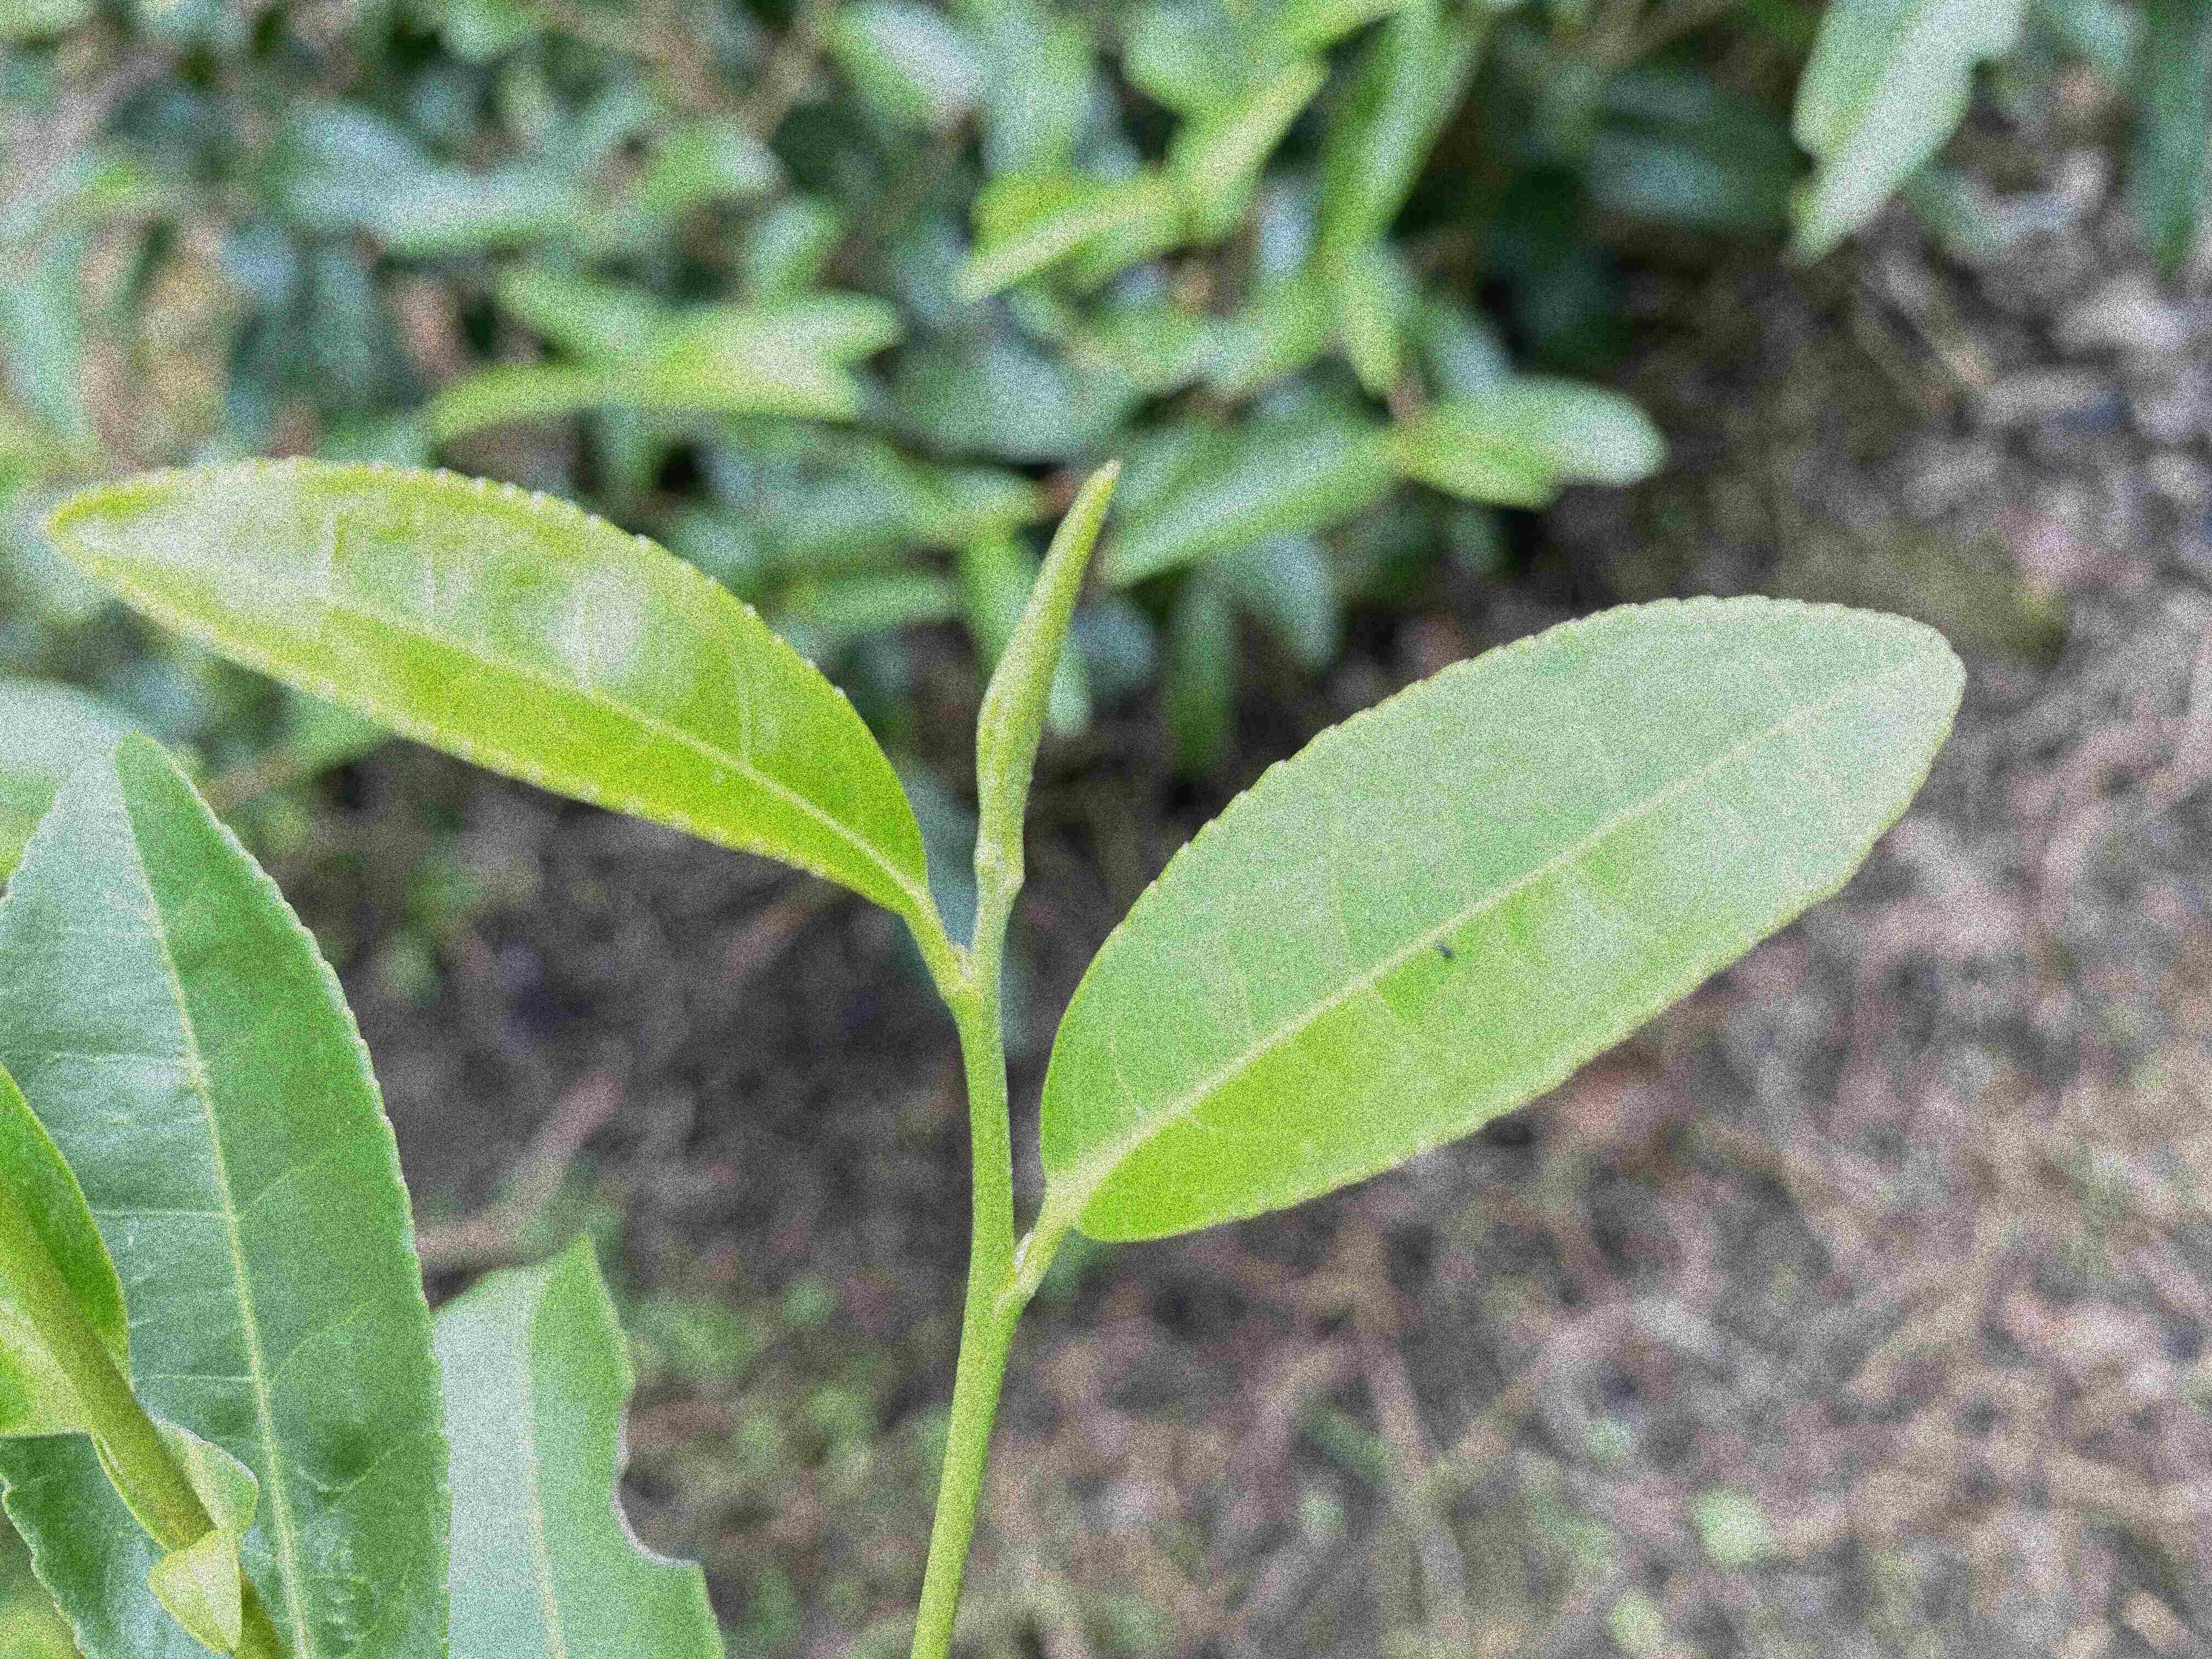healthy: (37, 457, 932, 911)
tanju_low: (1035, 589, 1966, 1241)
